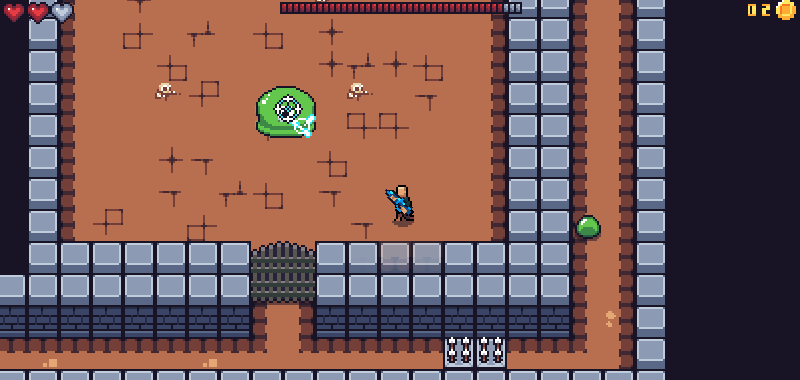enemy_slug: (574, 214, 603, 241)
enemy_slug_boss: (246, 69, 335, 151)
trap_door: (246, 235, 319, 303)
trap_on: (442, 335, 506, 367)
